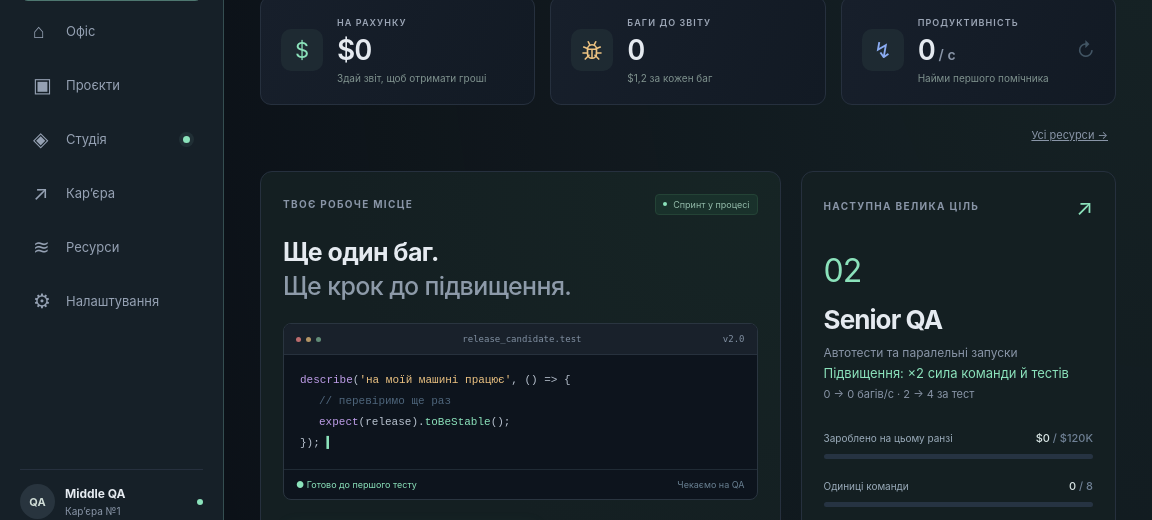
Scenario: reveals dependent research immediately when its prerequisite is purchased
Click the button "◈ Студія". click: {"x": 112, "y": 139}
box: [20,115,203,163]
(page scrolled)
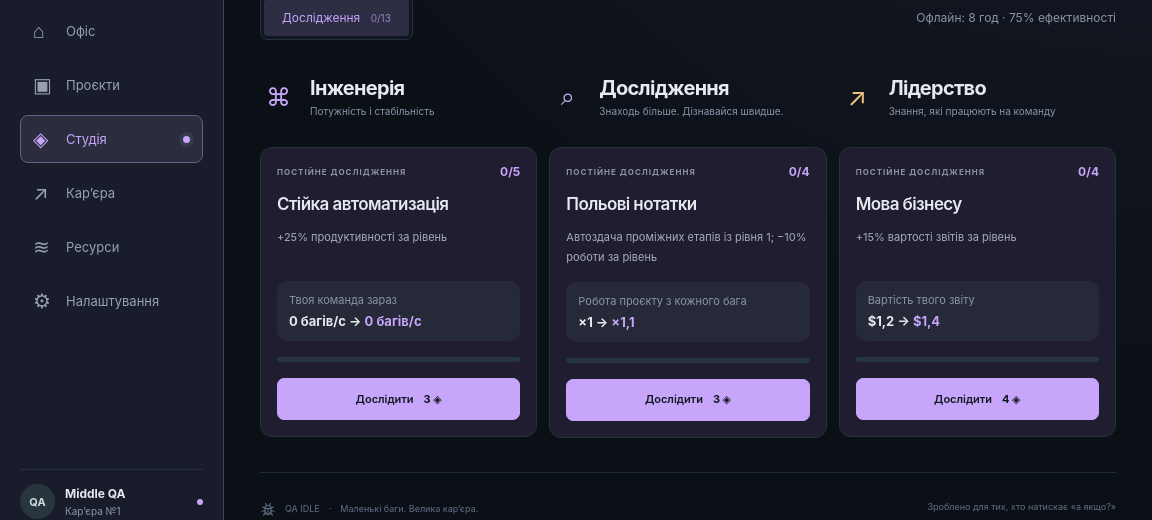
Click the button with aria-label "Дослідити Стійка автоматизація". click: {"x": 399, "y": 399}
box: [277,378,520,420]
(page scrolled)
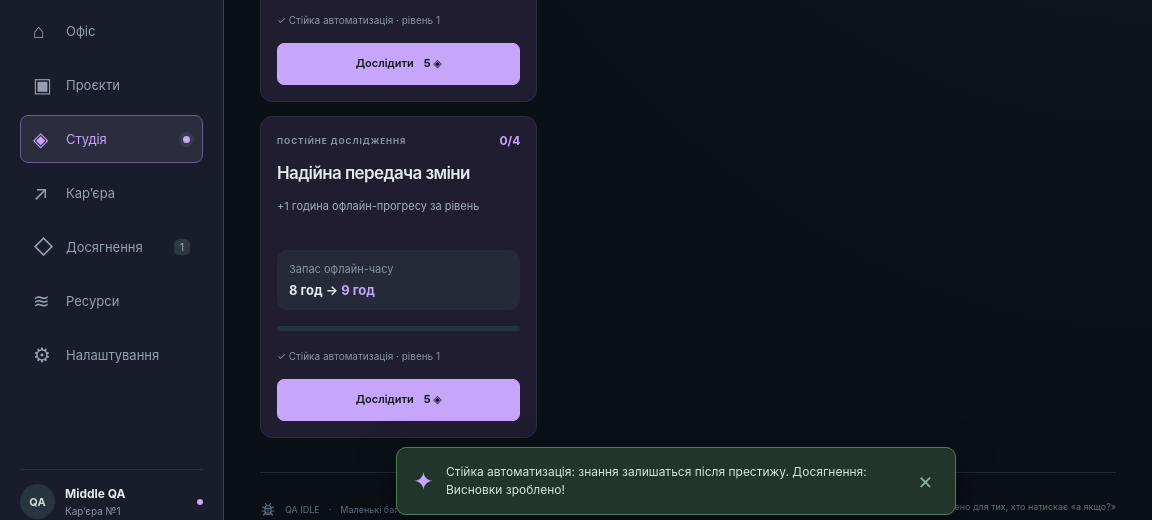
Expected: the button with aria-label "Дослідити Розумні закупівлі" is enabled, [277,43,520,85]
